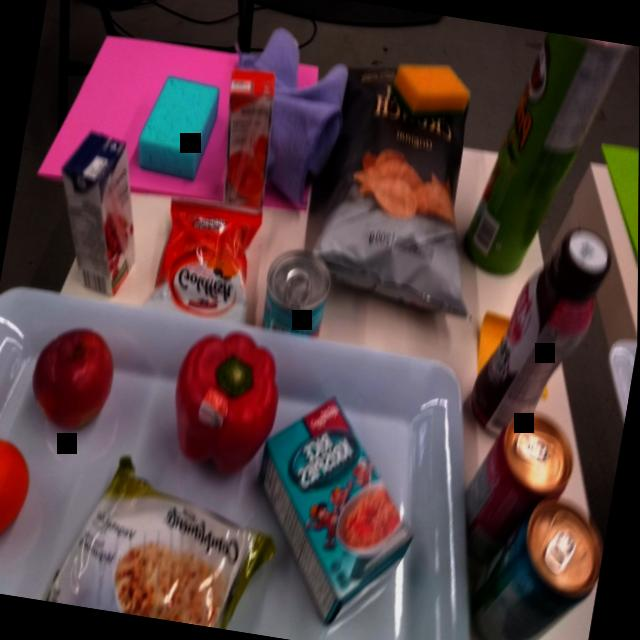apple: (22, 315, 125, 443)
cereal: (235, 380, 437, 638)
chocolate_drink: (463, 210, 620, 452)
grape_juice: (39, 121, 160, 301)
noodles: (39, 439, 290, 636)
orange: (0, 435, 40, 552)
orange_juice: (210, 60, 288, 216)
paprika: (159, 321, 295, 485)
sausages: (255, 246, 338, 343)
scrubby: (387, 50, 480, 128)
sponge_opl: (131, 72, 227, 188)
sprite: (459, 483, 612, 640)
